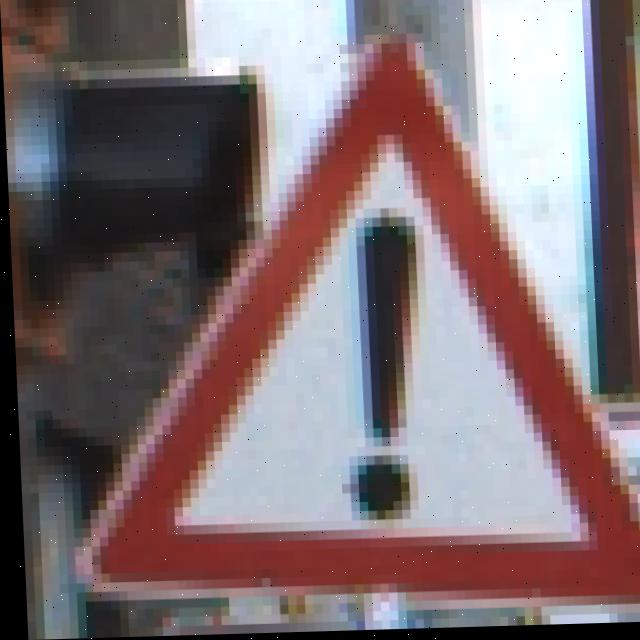warning: (171, 91, 639, 614)
